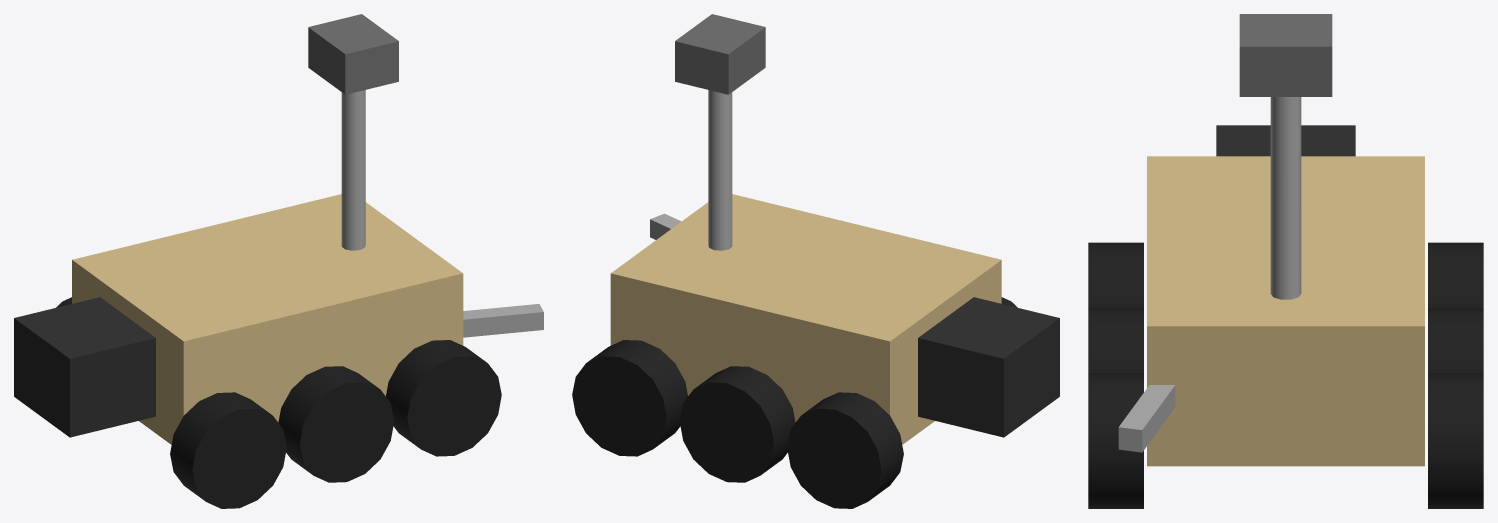
Rendered from rover.glb.
3 views of the same model, side by side, from view 1: azimuth 30°, elevation 25°; view 2: azimuth 150°, elevation 25°; view 3: azimuth 270°, elevation 25° (orthographic). The views are drawn at different scales.
Parts seen in each view (by area): view 1: rover; view 2: rover; view 3: rover.
Boxes of the visible parts, x1,y1,x2,y2 form: rover: (14, 14, 543, 508); rover: (572, 14, 1059, 508); rover: (1088, 14, 1483, 508).
Size of the model in its own units: 2.05 by 1.64 by 1.28.
